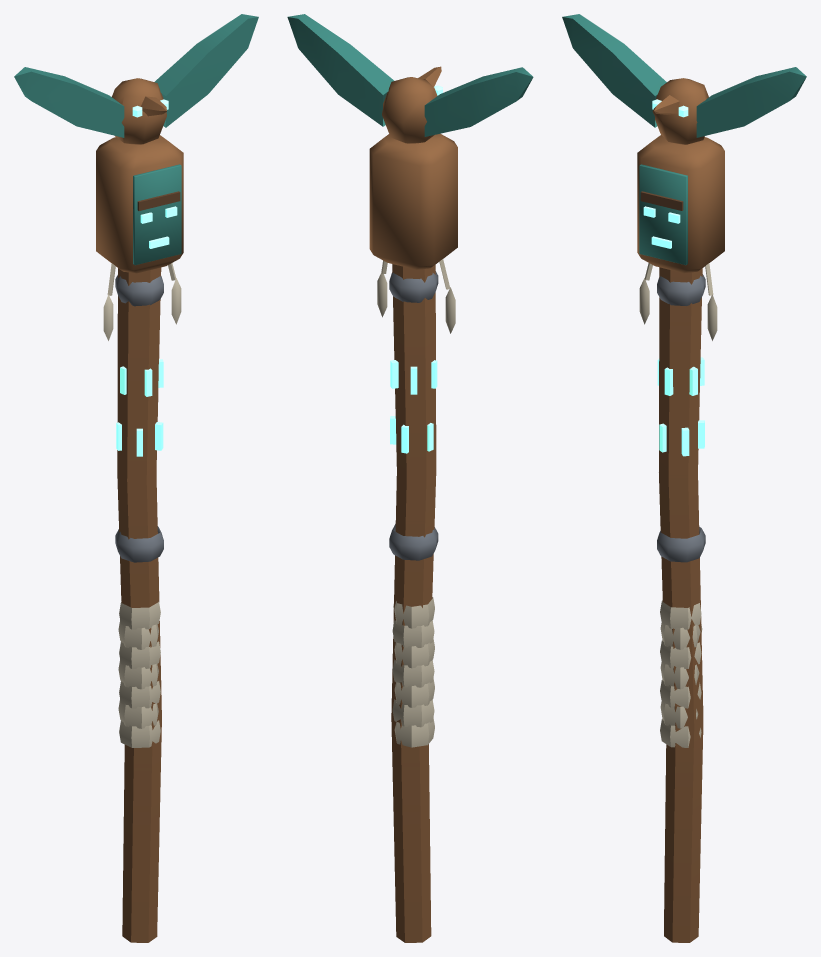
The model's file is totem-staff-3.glb.
3 views of the same model, side by side, from view 1: azimuth 30°, elevation 25°; view 2: azimuth 150°, elevation 25°; view 3: azimuth 330°, elevation 25° (orthographic).
Visible parts, largest first — view 1: totem-staff-3; view 2: totem-staff-3; view 3: totem-staff-3.
Boxes of the visible parts, left/top/right/bottom form: totem-staff-3: left=14, top=14, right=258, bottom=942; totem-staff-3: left=287, top=14, right=533, bottom=942; totem-staff-3: left=562, top=14, right=806, bottom=942.
Size of the model in its own units: 0.26 by 0.9043 by 0.0815.
